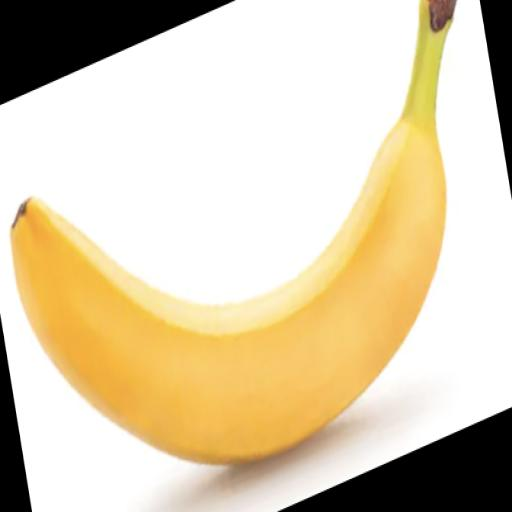banana-ripe: (14, 121, 504, 495)
